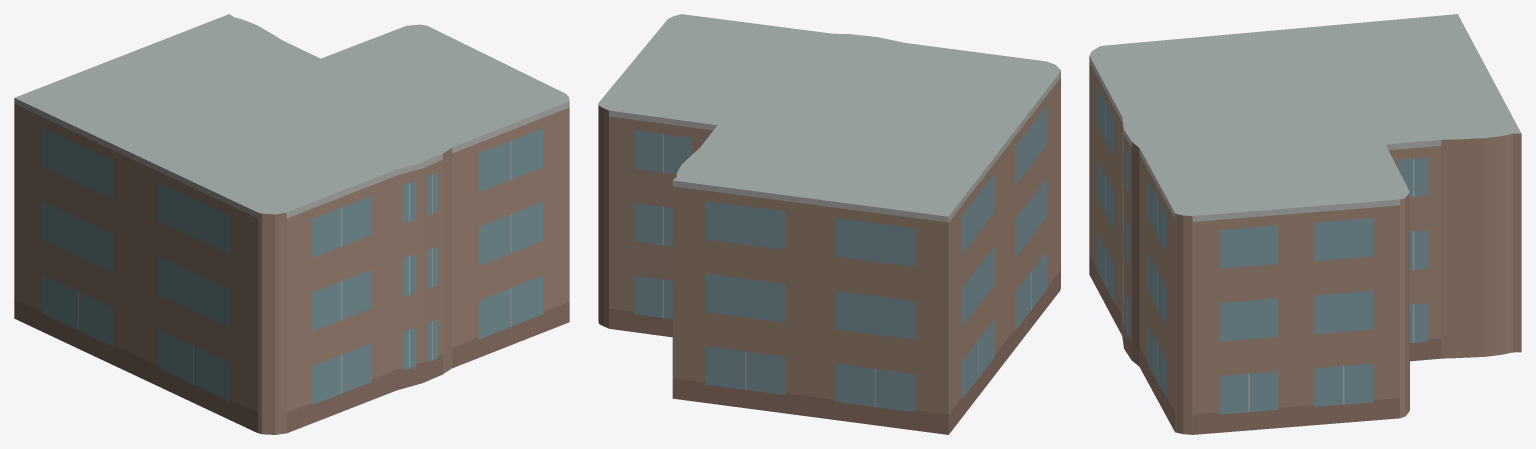
Rendered from survey-upis-33037621.glb.
3 views of the same model, side by side, from view 1: azimuth 30°, elevation 25°; view 2: azimuth 150°, elevation 25°; view 3: azimuth 270°, elevation 25° (orthographic).
Visible parts, largest first — view 1: survey-upis-33037621.tmp; view 2: survey-upis-33037621.tmp; view 3: survey-upis-33037621.tmp.
Part boxes in pixels (x1,y1,x2,y2): survey-upis-33037621.tmp: (14,14,569,434); survey-upis-33037621.tmp: (598,14,1060,434); survey-upis-33037621.tmp: (1089,14,1521,434).
Size of the model in its own units: 18.15 by 9.15 by 16.39.
